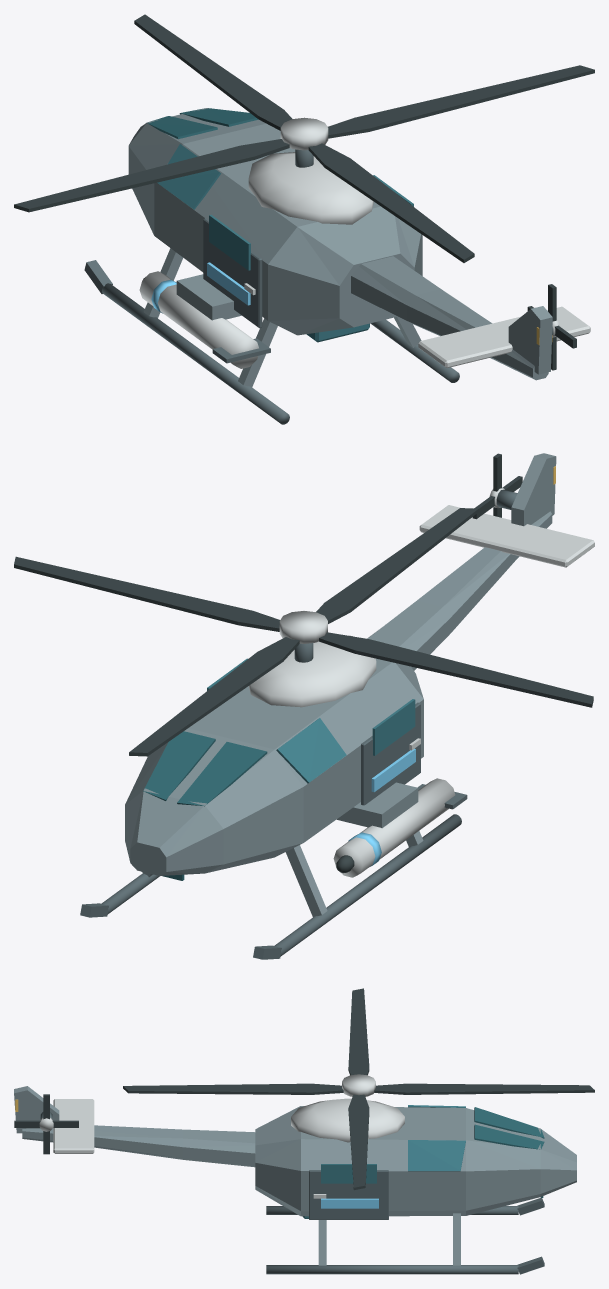
File: HEL_EscortAsw_T1.fbx
The picture shows the model from 3 angles, top to bottom: view 1: azimuth 30°, elevation 25°; view 2: azimuth 150°, elevation 25°; view 3: azimuth 270°, elevation 25°; orthographic projection. The views are drawn at different scales.
Parts seen in each view (by area): view 1: MachinedHelicopterFuselage, TaperedTailBoom, UpperEngineCowling, MainRotorBlade_03, MainRotorBlade_01, MainRotorBlade_04, MainRotorBlade_02, HorizontalTailplane, AirDroppedTorpedo, SkidRail, CabinDoor, VerticalTailFin (+11 smaller); view 2: MachinedHelicopterFuselage, TaperedTailBoom, UpperEngineCowling, HorizontalTailplane, MainRotorBlade_03, MainRotorBlade_01, MainRotorBlade_02, MainRotorBlade_04, AirDroppedTorpedo, SkidRail, FramedForwardWindshield, PilotSideWindow (+9 smaller); view 3: MachinedHelicopterFuselage, TaperedTailBoom, UpperEngineCowling, CabinDoor.001, SkidRail.001, MainRotorBlade_04, MainRotorBlade_02, HorizontalTailplane, PilotSideWindow.001, MainRotorBlade_01, MainRotorBlade_03, VerticalTailFin (+8 smaller).
Boxes of the visible parts, <box> form: MachinedHelicopterFuselage: <box>128,108,422,335</box>; TaperedTailBoom: <box>351,256,548,380</box>; UpperEngineCowling: <box>248,152,373,224</box>; MainRotorBlade_03: <box>14,139,289,212</box>; MainRotorBlade_01: <box>328,65,594,138</box>; MainRotorBlade_04: <box>308,143,474,262</box>; MainRotorBlade_02: <box>134,14,292,130</box>; HorizontalTailplane: <box>418,306,590,367</box>; AirDroppedTorpedo: <box>139,271,258,368</box>; SkidRail: <box>102,283,289,424</box>; CabinDoor: <box>203,218,262,328</box>; VerticalTailFin: <box>508,306,552,374</box>; MachinedHelicopterFuselage: <box>125,658,423,875</box>; TaperedTailBoom: <box>367,511,552,670</box>; UpperEngineCowling: <box>248,635,376,707</box>; HorizontalTailplane: <box>419,505,594,567</box>; MainRotorBlade_03: <box>319,632,593,707</box>; MainRotorBlade_01: <box>14,556,279,631</box>; MainRotorBlade_02: <box>129,637,299,756</box>; MainRotorBlade_04: <box>316,508,478,623</box>; AirDroppedTorpedo: <box>333,778,455,877</box>; SkidRail: <box>274,814,461,956</box>; FramedForwardWindshield: <box>177,742,267,806</box>; PilotSideWindow: <box>276,718,346,783</box>; MachinedHelicopterFuselage: <box>255,1106,576,1216</box>; TaperedTailBoom: <box>22,1125,255,1167</box>; UpperEngineCowling: <box>291,1098,404,1142</box>; CabinDoor.001: <box>309,1170,388,1219</box>; SkidRail.001: <box>266,1265,518,1274</box>; MainRotorBlade_04: <box>123,1083,343,1094</box>; MainRotorBlade_02: <box>374,1083,594,1094</box>; HorizontalTailplane: <box>53,1099,94,1153</box>; PilotSideWindow.001: <box>408,1140,465,1171</box>; MainRotorBlade_01: <box>348,1094,369,1190</box>; MainRotorBlade_03: <box>348,988,369,1075</box>; VerticalTailFin: <box>14,1086,59,1133</box>.
Size of the model in its own units: 260 by 98.95 by 320.
